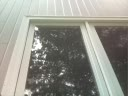window: (26, 23, 86, 96), (106, 25, 128, 62)
